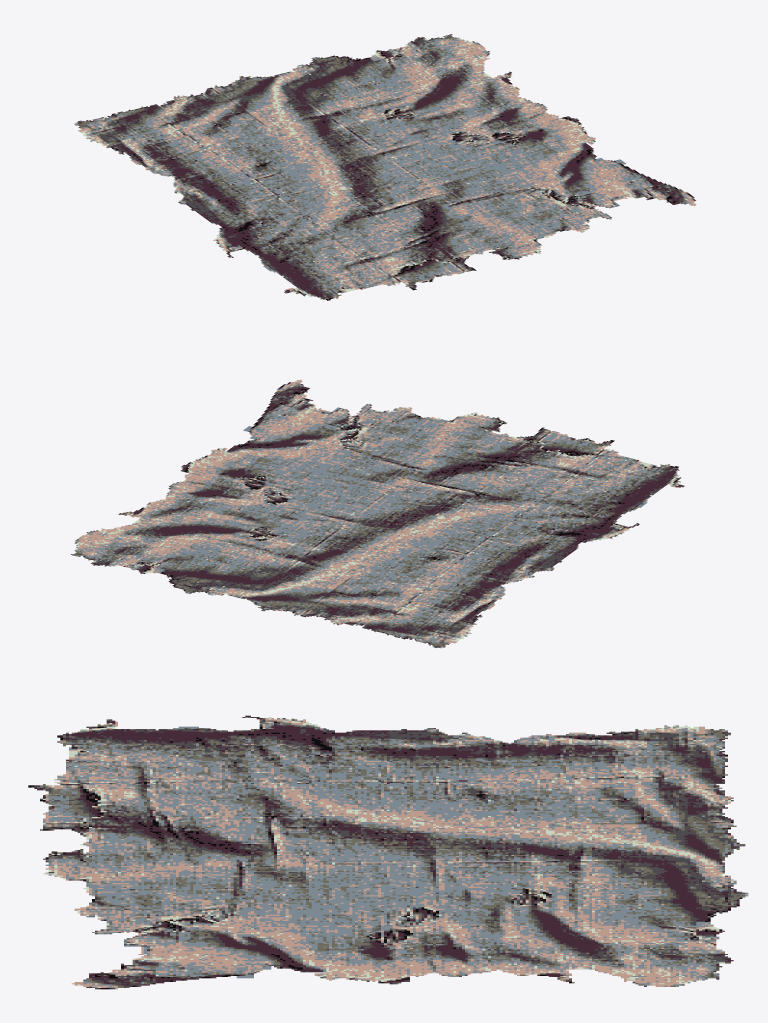
File: cloth_001.gltf
The picture shows the model from 3 angles, top to bottom: view 1: azimuth 30°, elevation 25°; view 2: azimuth 150°, elevation 25°; view 3: azimuth 270°, elevation 25°; orthographic projection. The views are drawn at different scales.
Visible parts, largest first — view 1: cloth.001; view 2: cloth.001; view 3: cloth.001.
Boxes of the visible parts, box(x1,y1,x2,y2) form: cloth.001: box(74, 34, 696, 300); cloth.001: box(71, 379, 684, 648); cloth.001: box(28, 715, 748, 989).
Bounding box in the file's own units: 0.5948 × 0 × 0.5948.
Materials: 1 (1 with a texture image).
